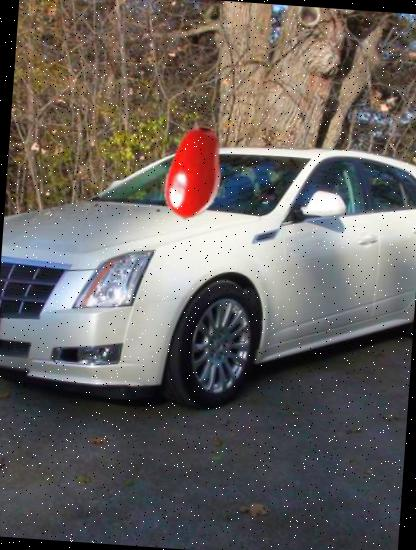Tomato: (143, 123, 243, 224)
